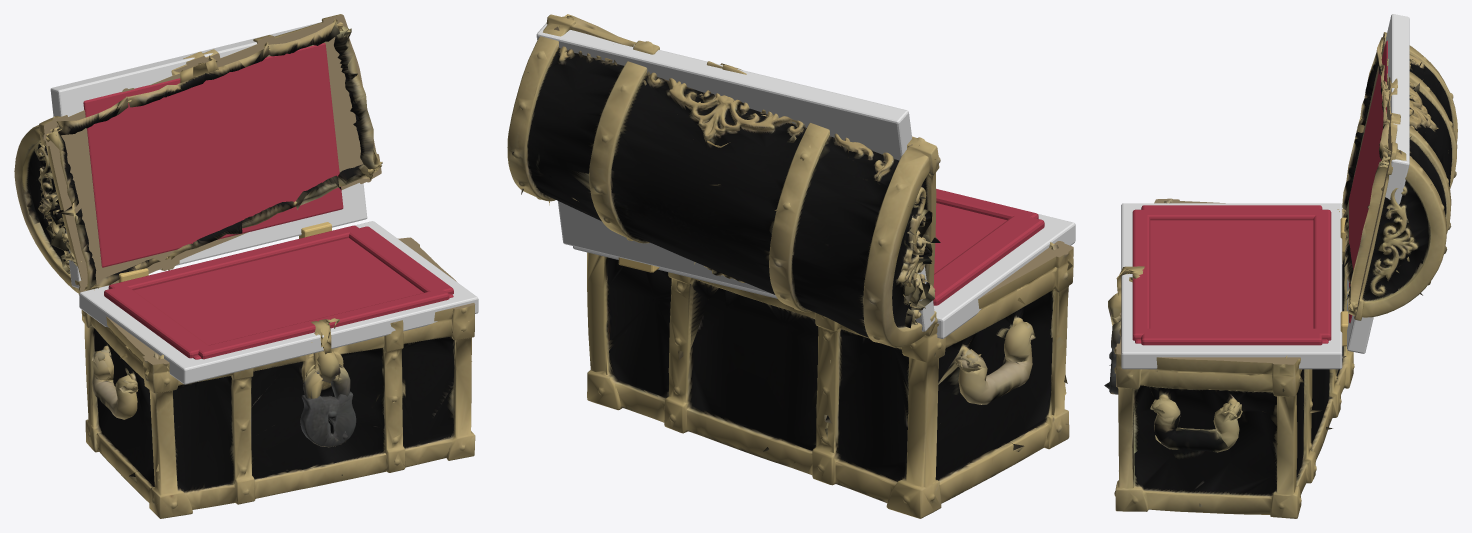
File: SM_Box_BrassChest_Open.fbx
3 renders of one model, left to right at view 1: azimuth 30°, elevation 25°; view 2: azimuth 150°, elevation 25°; view 3: azimuth 270°, elevation 25°, orthographic. The views are drawn at different scales.
Parts seen in each view (by area): view 1: LidPivot, BoxBody, VelvetInterior, VelvetRim, VelvetBolsterY_-1.0, VelvetBolsterY_1.0, VelvetBolsterX_-1.0, VelvetBolsterX_1.0; view 2: LidPivot, BoxBody, VelvetRim, VelvetBolsterX_-1.0, VelvetInterior, VelvetBolsterY_-1.0; view 3: BoxBody, LidPivot, VelvetInterior, VelvetRim, VelvetBolsterX_1.0, VelvetBolsterX_-1.0, VelvetBolsterY_1.0, VelvetBolsterY_-1.0.
Boxes of the visible parts, x1,y1,x2,y2 form: LidPivot: (14, 14, 382, 295); BoxBody: (81, 237, 475, 518); VelvetInterior: (134, 238, 453, 359); VelvetRim: (79, 221, 478, 384); VelvetBolsterY_-1.0: (198, 290, 449, 359); VelvetBolsterY_1.0: (108, 225, 359, 290); VelvetBolsterX_-1.0: (104, 285, 208, 358); VelvetBolsterX_1.0: (349, 226, 453, 294); LidPivot: (507, 14, 940, 347); BoxBody: (587, 241, 1073, 518); VelvetRim: (573, 214, 1075, 338); VelvetBolsterX_-1.0: (933, 215, 1044, 305); VelvetInterior: (934, 203, 1006, 273); VelvetBolsterY_-1.0: (936, 189, 1038, 220); BoxBody: (1104, 198, 1354, 518); LidPivot: (1342, 14, 1457, 353); VelvetInterior: (1135, 220, 1328, 343); VelvetRim: (1121, 203, 1342, 369); VelvetBolsterX_1.0: (1141, 328, 1322, 345); VelvetBolsterX_-1.0: (1141, 205, 1322, 220); VelvetBolsterY_1.0: (1313, 209, 1331, 340); VelvetBolsterY_-1.0: (1132, 209, 1150, 340).
Bounding box in the file's own units: 0.4271 × 0.4287 × 0.3758.
